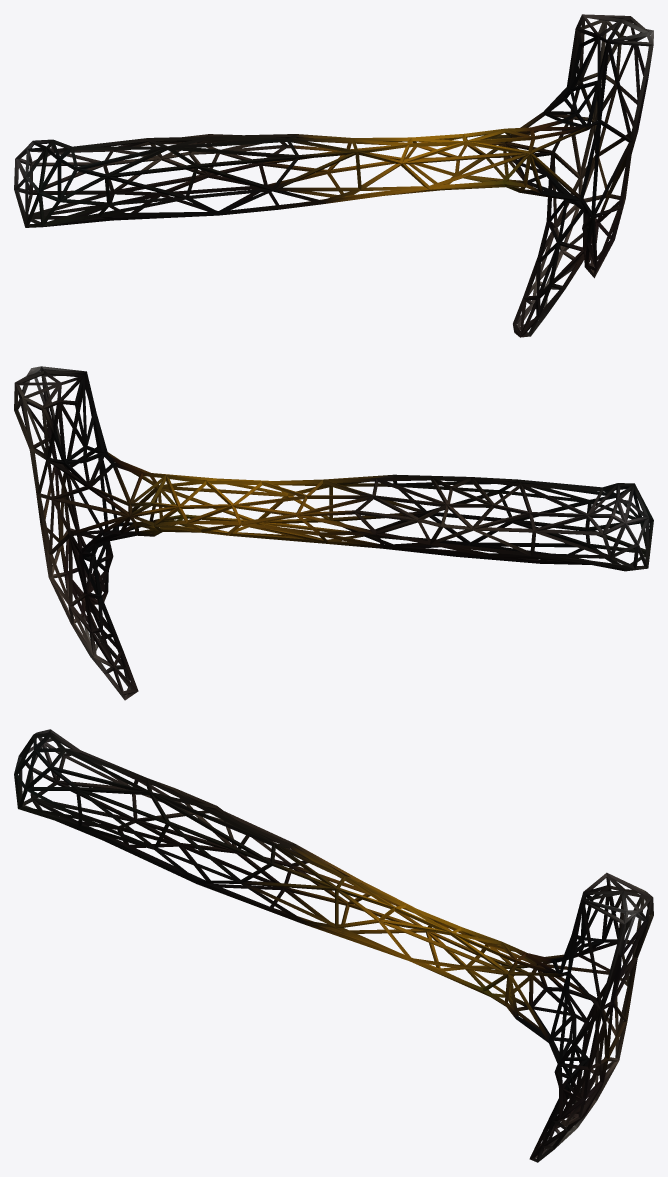
Rendered from hammer.dae.
The picture shows the model from 3 angles, top to bottom: view 1: azimuth 30°, elevation 25°; view 2: azimuth 150°, elevation 25°; view 3: azimuth 330°, elevation 25°; orthographic projection.
Visible parts, largest first — view 1: node; view 2: node; view 3: node.
Part boxes in pixels (x1=…): node: x1=14, y1=14, x2=653, y2=337; node: x1=14, y1=366, x2=653, y2=700; node: x1=14, y1=729, x2=653, y2=1162.
Bounding box in the file's own units: 55.07 × 27.16 × 6.67.
